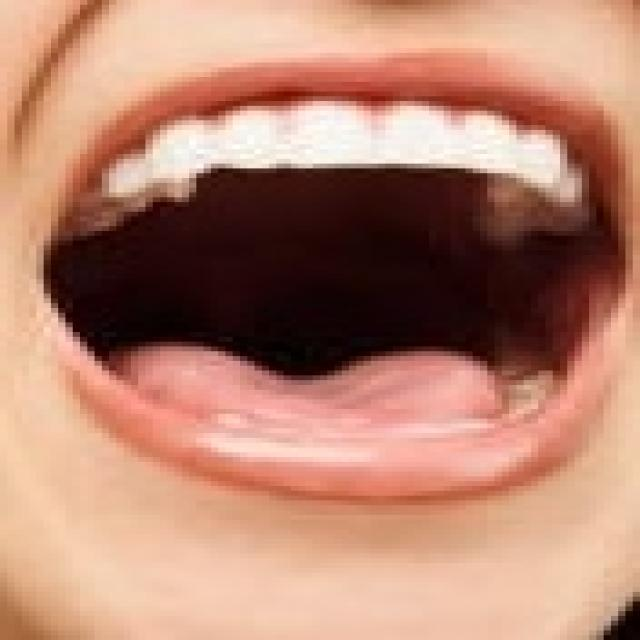open-mouth: (29, 48, 633, 501)
